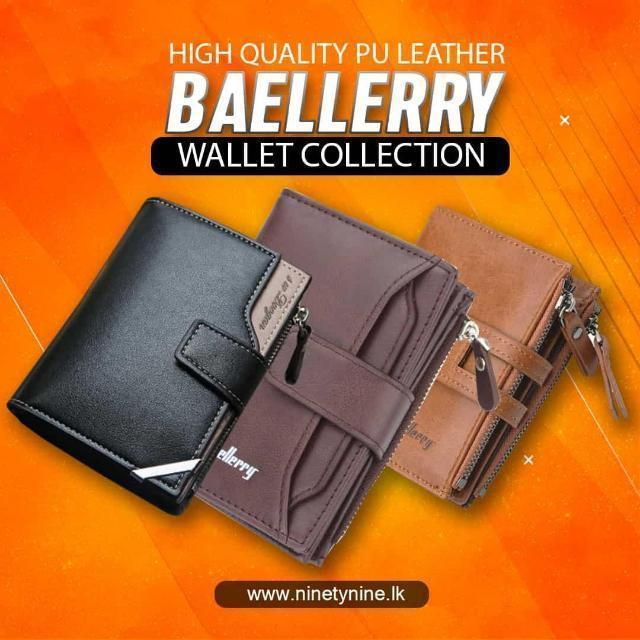wallet: (1, 194, 313, 520)
